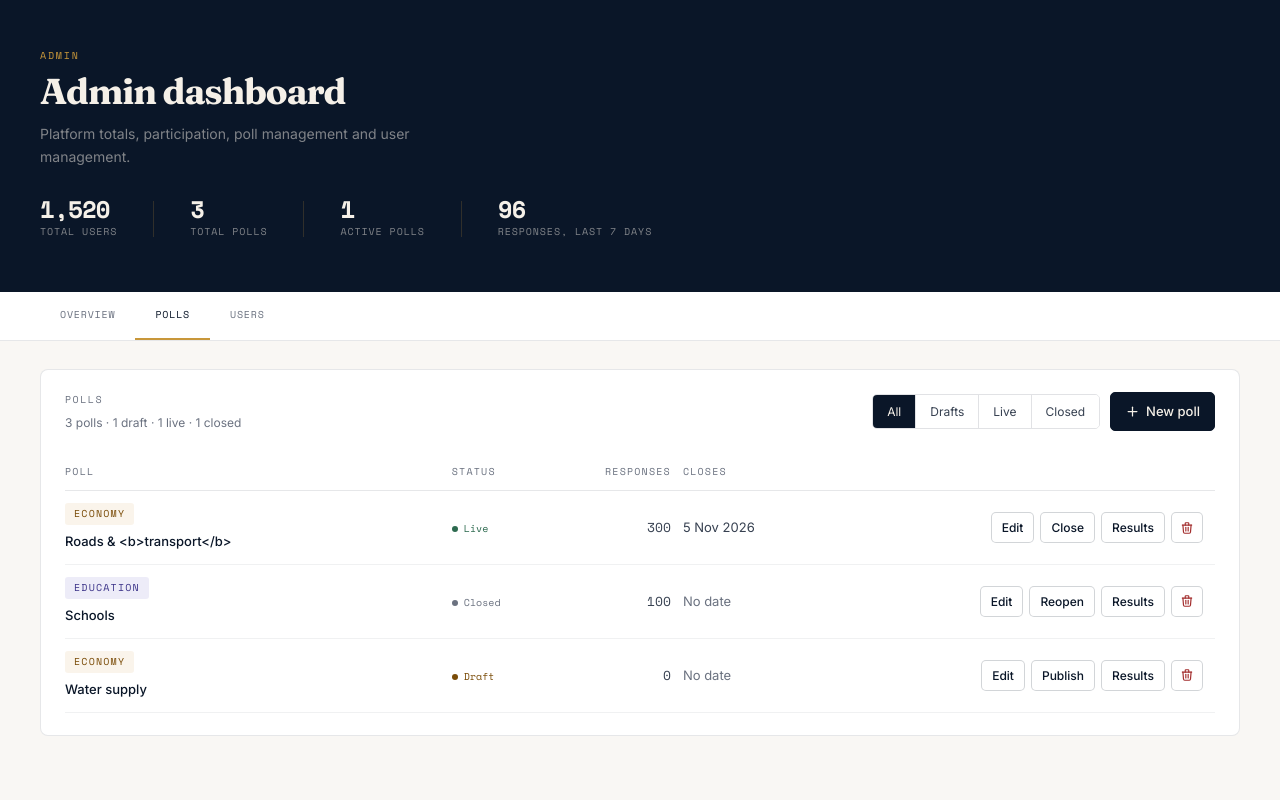
Test: poll list › shows the API’s reason when a change is refused
Click the button "Close".
click(1068, 528)  # box [1040,512,1095,543]
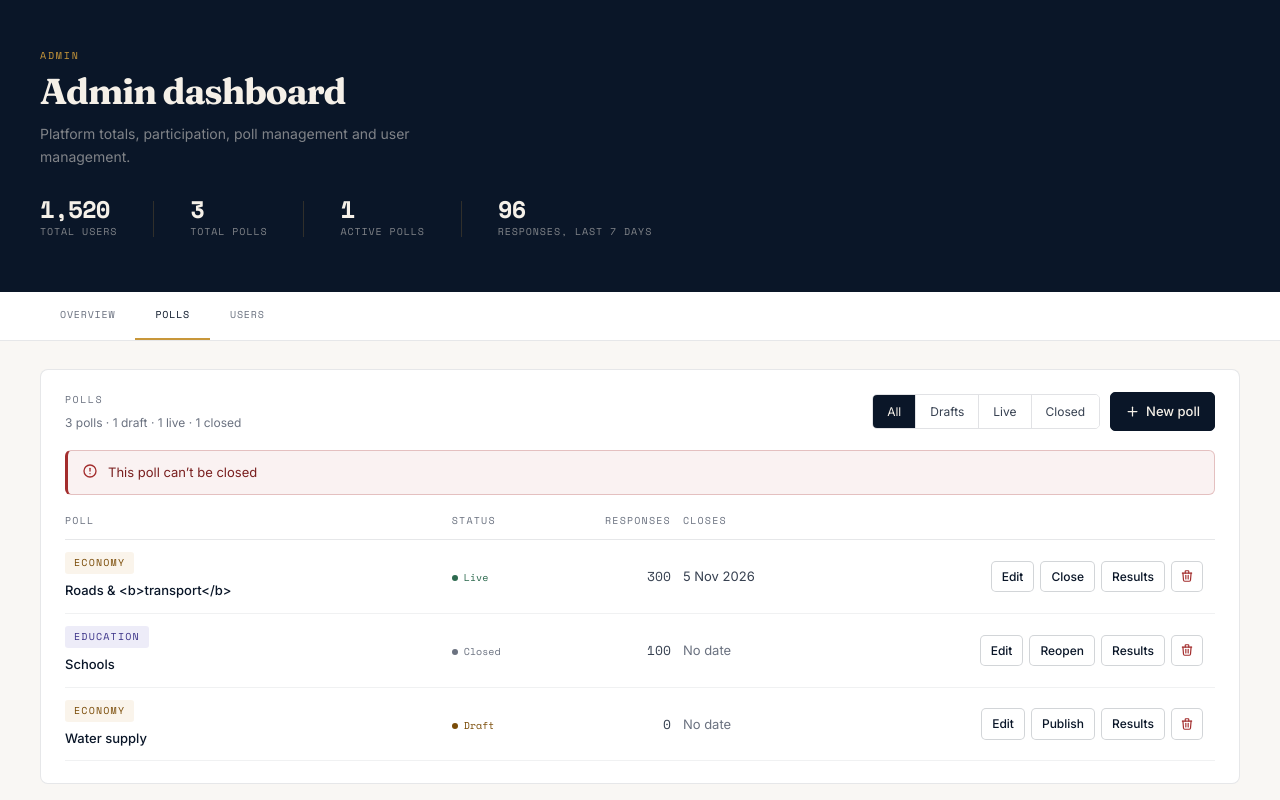
Check: the message reads "This poll can’t be closed", box [108,464,257,480]
